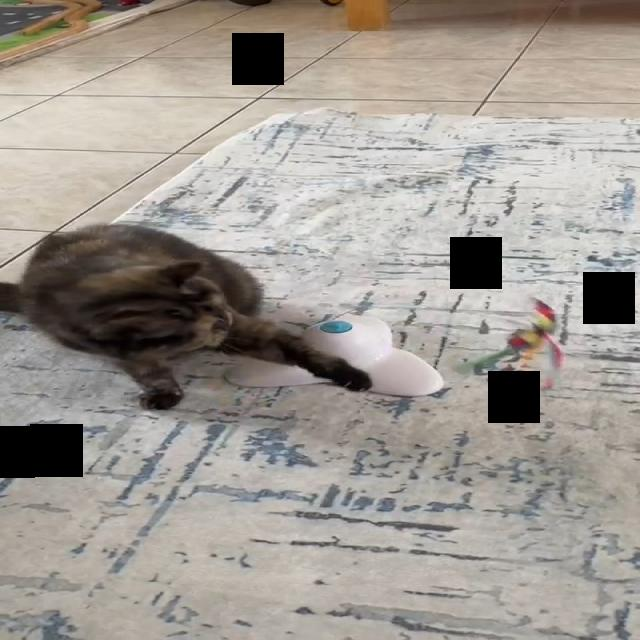authorized: (0, 221, 372, 411)
